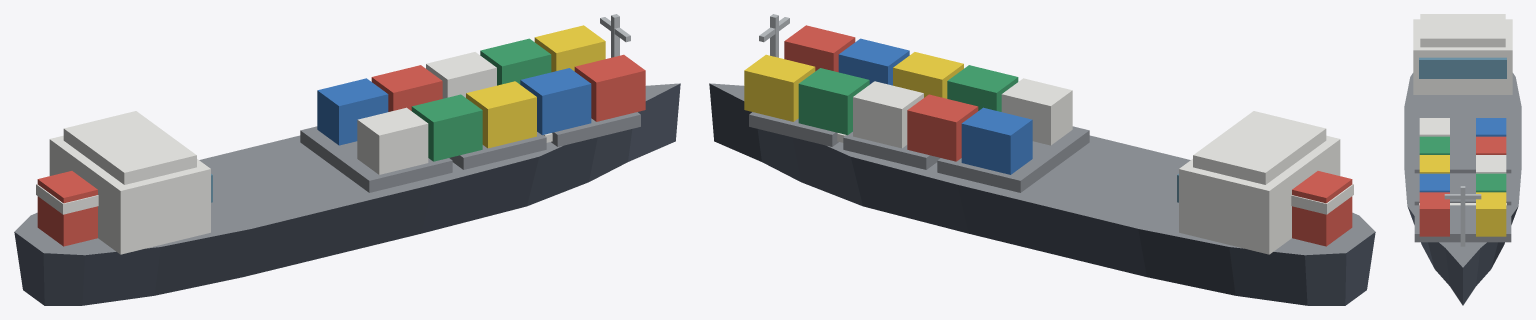
File: ship.glb
The picture shows the model from 3 angles, left to right: view 1: azimuth 30°, elevation 25°; view 2: azimuth 150°, elevation 25°; view 3: azimuth 270°, elevation 25°; orthographic projection. The views are drawn at different scales.
Visible parts, largest first — view 1: ship_hull, ship_bridge, ship_bridge_roof, ship_cont_0_4, ship_cont_0_0, ship_cont_0_3, ship_cont_0_1, ship_cont_0_2, ship_hatch_2, ship_cont_1_4, ship_funnel, ship_cont_1_1 (+6 smaller); view 2: ship_hull, ship_bridge, ship_bridge_roof, ship_cont_1_4, ship_cont_1_0, ship_cont_1_3, ship_cont_1_1, ship_cont_1_2, ship_hatch_2, ship_cont_0_4, ship_funnel, ship_cont_0_1 (+6 smaller); view 3: ship_hull, ship_bridge, ship_bridge_roof, ship_bridge_glass, ship_hatch_0, ship_cont_0_0, ship_cont_1_0, ship_hatch_2, ship_hatch_1, ship_cont_0_1, ship_cont_1_1, ship_cont_0_2 (+7 smaller).
Part boxes in pixels (x1=…): ship_hull: x1=14, y1=83, x2=680, y2=305; ship_bridge: x1=49, y1=135, x2=210, y2=254; ship_bridge_roof: x1=63, y1=111, x2=196, y2=184; ship_cont_0_4: x1=357, y1=107, x2=428, y2=174; ship_cont_0_0: x1=574, y1=54, x2=645, y2=121; ship_cont_0_3: x1=411, y1=94, x2=482, y2=161; ship_cont_0_1: x1=520, y1=68, x2=591, y2=135; ship_cont_0_2: x1=466, y1=81, x2=536, y2=148; ship_hatch_2: x1=300, y1=126, x2=452, y2=192; ship_cont_1_4: x1=317, y1=78, x2=388, y2=145; ship_funnel: x1=37, y1=171, x2=97, y2=246; ship_cont_1_1: x1=480, y1=38, x2=551, y2=85; ship_hull: x1=709, y1=83, x2=1375, y2=305; ship_bridge: x1=1179, y1=135, x2=1340, y2=254; ship_bridge_roof: x1=1193, y1=111, x2=1326, y2=184; ship_cont_1_4: x1=961, y1=107, x2=1032, y2=174; ship_cont_1_0: x1=744, y1=54, x2=815, y2=121; ship_cont_1_3: x1=907, y1=94, x2=978, y2=161; ship_cont_1_1: x1=798, y1=68, x2=869, y2=135; ship_cont_1_2: x1=853, y1=81, x2=923, y2=148; ship_hatch_2: x1=937, y1=126, x2=1089, y2=192; ship_cont_0_4: x1=1001, y1=78, x2=1072, y2=145; ship_funnel: x1=1292, y1=171, x2=1352, y2=246; ship_cont_0_1: x1=838, y1=38, x2=909, y2=85; ship_hull: x1=1404, y1=73, x2=1521, y2=305; ship_bridge: x1=1413, y1=19, x2=1512, y2=94; ship_bridge_roof: x1=1420, y1=14, x2=1505, y2=47; ship_bridge_glass: x1=1419, y1=57, x2=1506, y2=78; ship_hatch_0: x1=1414, y1=205, x2=1511, y2=242; ship_cont_0_0: x1=1419, y1=192, x2=1449, y2=236; ship_cont_1_0: x1=1476, y1=192, x2=1506, y2=236; ship_hatch_2: x1=1414, y1=141, x2=1511, y2=173; ship_hatch_1: x1=1414, y1=173, x2=1511, y2=205; ship_cont_0_1: x1=1419, y1=173, x2=1449, y2=192; ship_cont_1_1: x1=1476, y1=173, x2=1506, y2=192; ship_cont_0_2: x1=1419, y1=155, x2=1449, y2=173.
Bounding box in the file's own units: 0.9 × 0.185 × 0.2.
